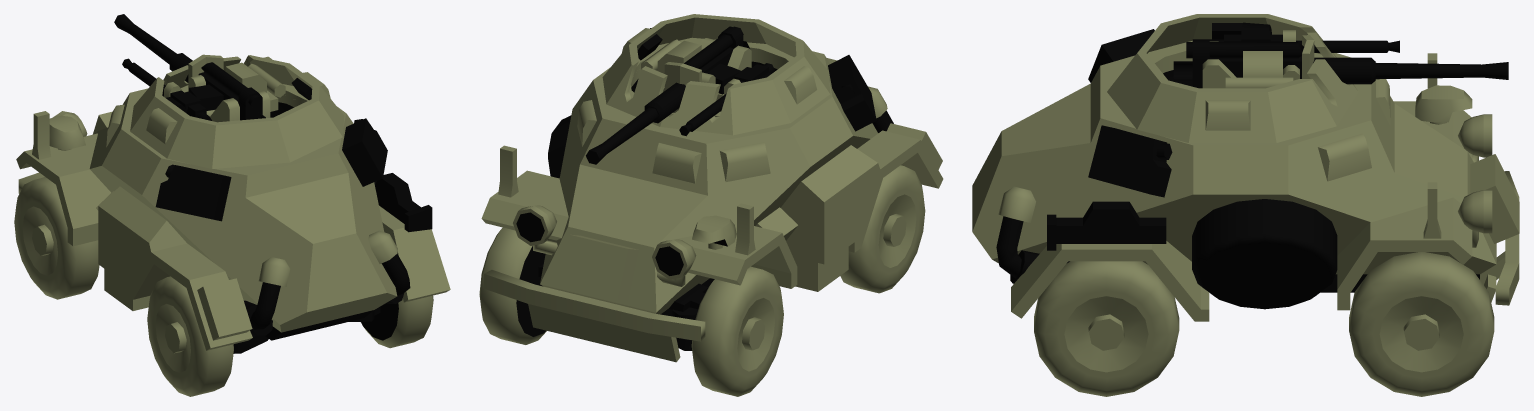
The model's file is Tank_G_SdKfz_222.fbx.
3 views of the same model, side by side, from view 1: azimuth 30°, elevation 25°; view 2: azimuth 150°, elevation 25°; view 3: azimuth 270°, elevation 25° (orthographic). The views are drawn at different scales.
Visible parts, largest first — view 1: hull, turret, gun, tire_back, tire_front_l, wheel_back, wheel_front_l; view 2: hull, turret, gun, tire_front_l, tire_back, tire_front_r, wheel_front_l, wheel_back, wheel_front_r; view 3: hull, turret, gun, tire_front_r, tire_back, wheel_front_r, wheel_back.
Boxes of the visible parts, box(x1,y1,x2,y2) form: hull: box(16, 56, 450, 353); turret: box(130, 55, 344, 168); gun: box(114, 14, 285, 120); tire_back: box(147, 276, 433, 396); tire_front_l: box(14, 177, 99, 299); wheel_back: box(153, 298, 398, 378); wheel_front_l: box(20, 201, 60, 280); hull: box(481, 28, 943, 362); turret: box(602, 14, 830, 135); gun: box(586, 26, 774, 164); tire_front_l: box(691, 266, 783, 396); tire_back: box(840, 165, 925, 293); tire_front_r: box(479, 227, 546, 344); wheel_front_l: box(734, 292, 777, 376); wheel_back: box(876, 188, 919, 273); wheel_front_r: box(516, 239, 548, 336); hull: box(972, 29, 1519, 321); turret: box(1107, 14, 1358, 142); gun: box(1173, 22, 1508, 88); tire_front_r: box(1349, 252, 1494, 396); tire_back: box(1034, 261, 1179, 396); wheel_front_r: box(1373, 290, 1470, 378); wheel_back: box(1058, 290, 1154, 378).
Bounding box in the file's own units: 314 × 494 × 291.
